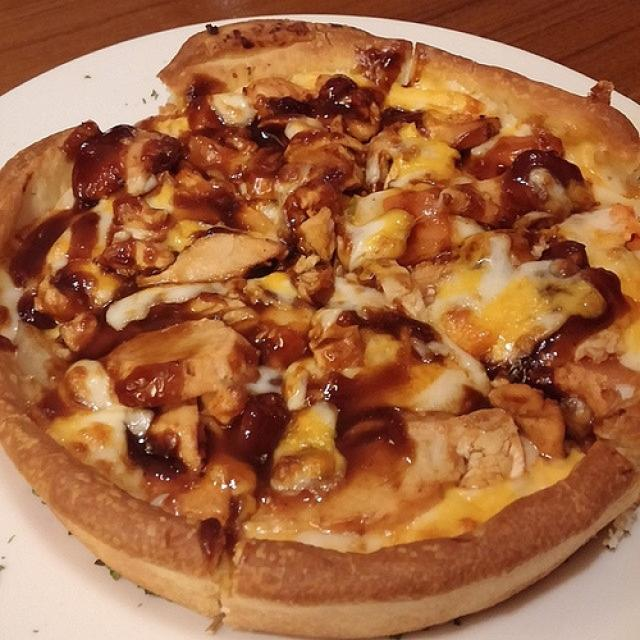Wet Waste: (0, 15, 640, 638)
